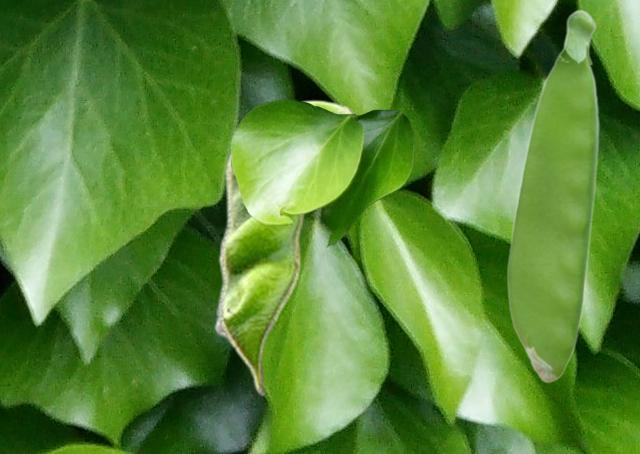pea: (213, 99, 369, 396), (506, 8, 599, 382)
